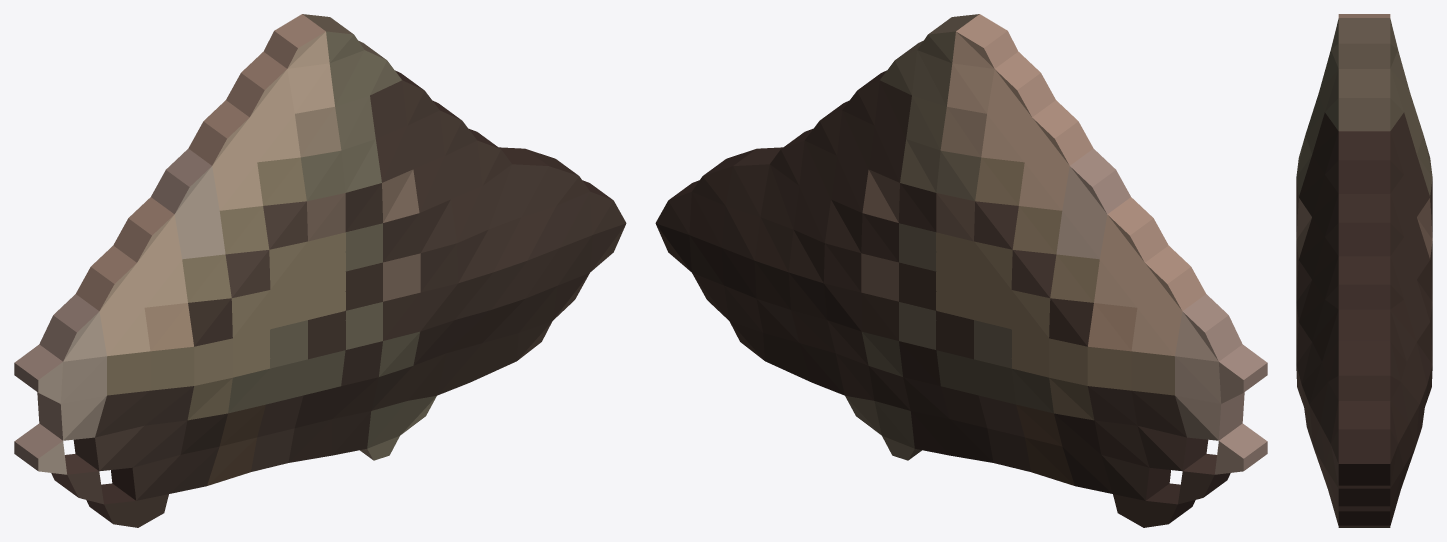
Rendered from gunpowder_pile.glb.
3 renders of one model, left to right at view 1: azimuth 30°, elevation 25°; view 2: azimuth 150°, elevation 25°; view 3: azimuth 270°, elevation 25°, orthographic. The views are drawn at different scales.
Parts seen in each view (by area): view 1: gunpowder_pile; view 2: gunpowder_pile; view 3: gunpowder_pile.
Boxes of the visible parts, left/top/right/bottom form: gunpowder_pile: left=14, top=14, right=626, bottom=527; gunpowder_pile: left=655, top=14, right=1267, bottom=527; gunpowder_pile: left=1296, top=14, right=1432, bottom=527.
Bounding box in the file's own units: 1 × 0.7321 × 0.1852.
1 material, 1 textured.
